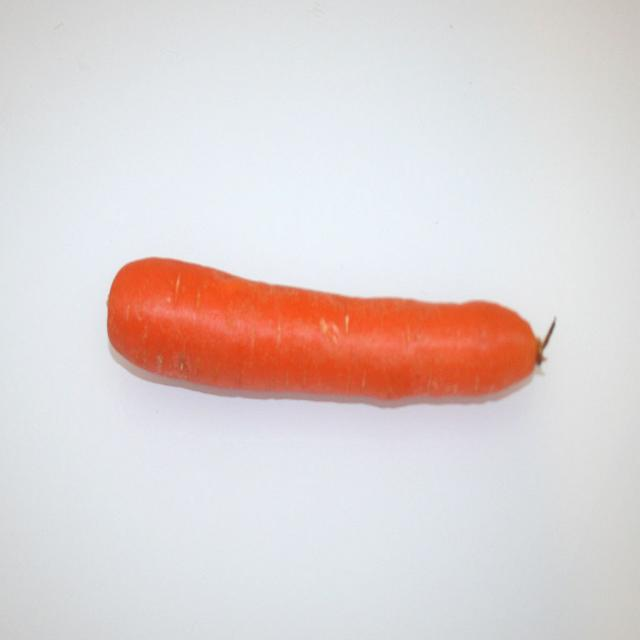Carrot: (104, 258, 544, 408)
